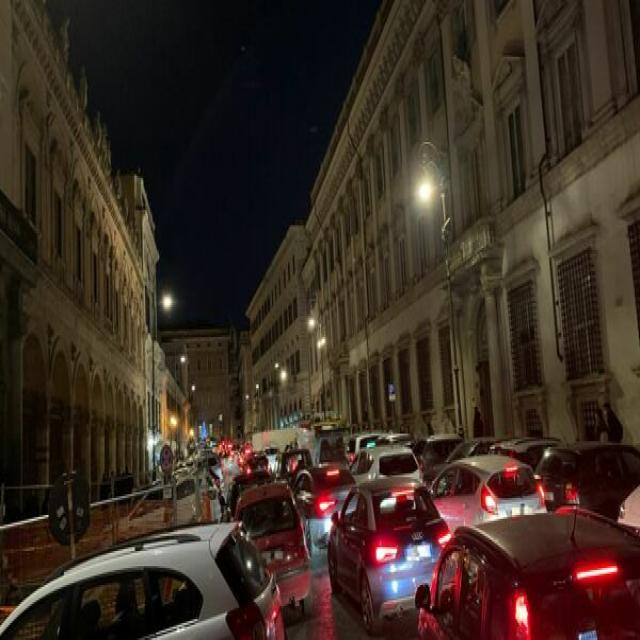lampione: (416, 179, 434, 207), (160, 287, 176, 318), (305, 312, 318, 337), (188, 376, 198, 399), (178, 349, 188, 369), (169, 413, 178, 435), (252, 379, 262, 397), (187, 425, 197, 442), (278, 368, 288, 383), (272, 356, 280, 372), (243, 391, 250, 407), (319, 335, 328, 347), (217, 410, 224, 424), (314, 337, 321, 350)
